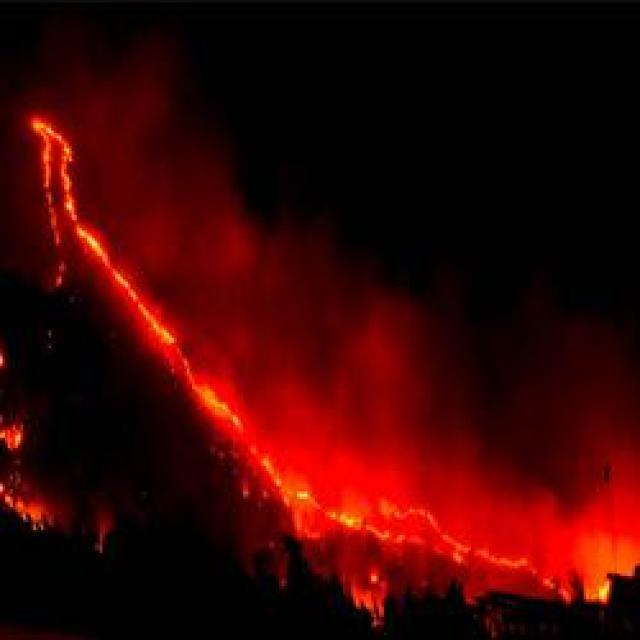Fire: (184, 365, 640, 640), (24, 106, 186, 394), (2, 464, 110, 550), (0, 408, 25, 458), (0, 343, 6, 381)
Smoke: (141, 56, 640, 417)
